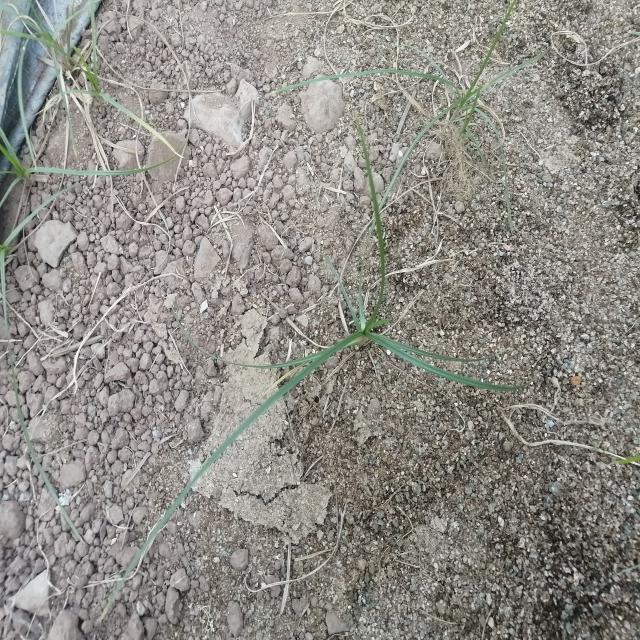sedge: (172, 164, 557, 509)
